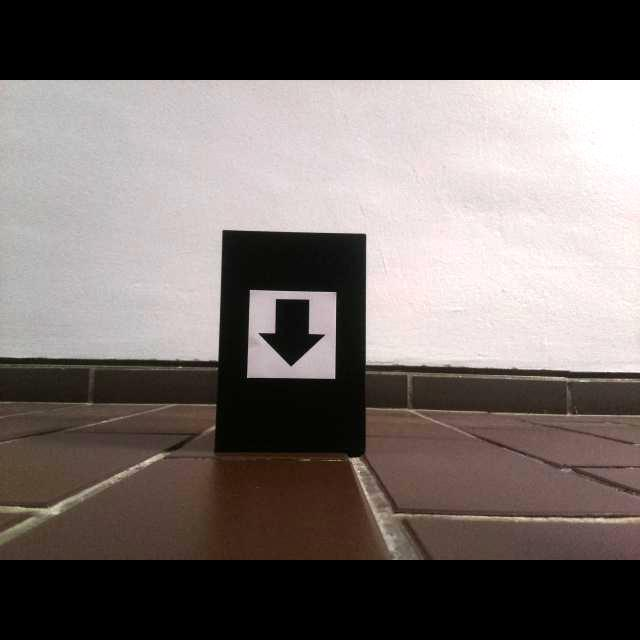DOWN: (257, 299, 326, 367)
